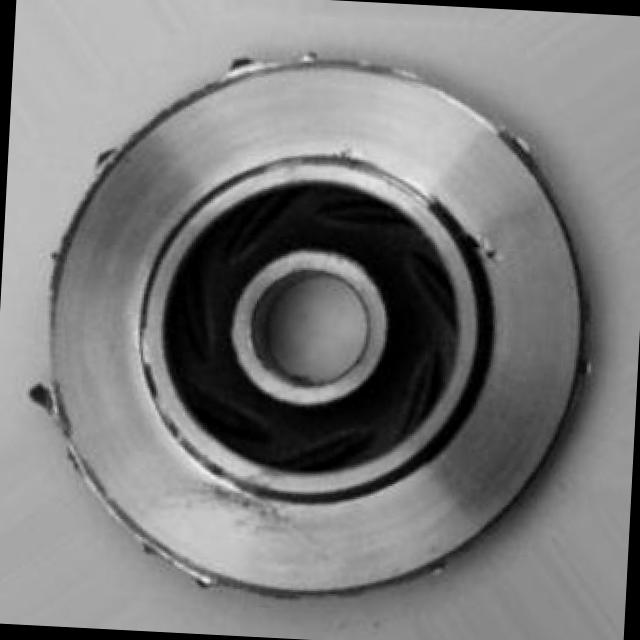Defect: (24, 376, 70, 426)
